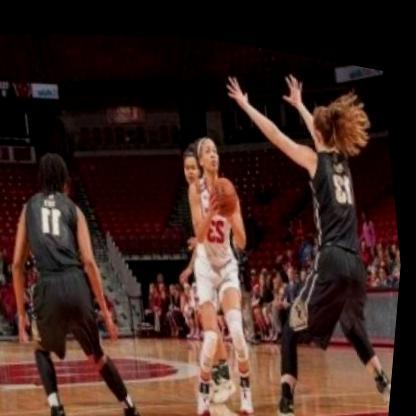basketball: (208, 160, 246, 210)
